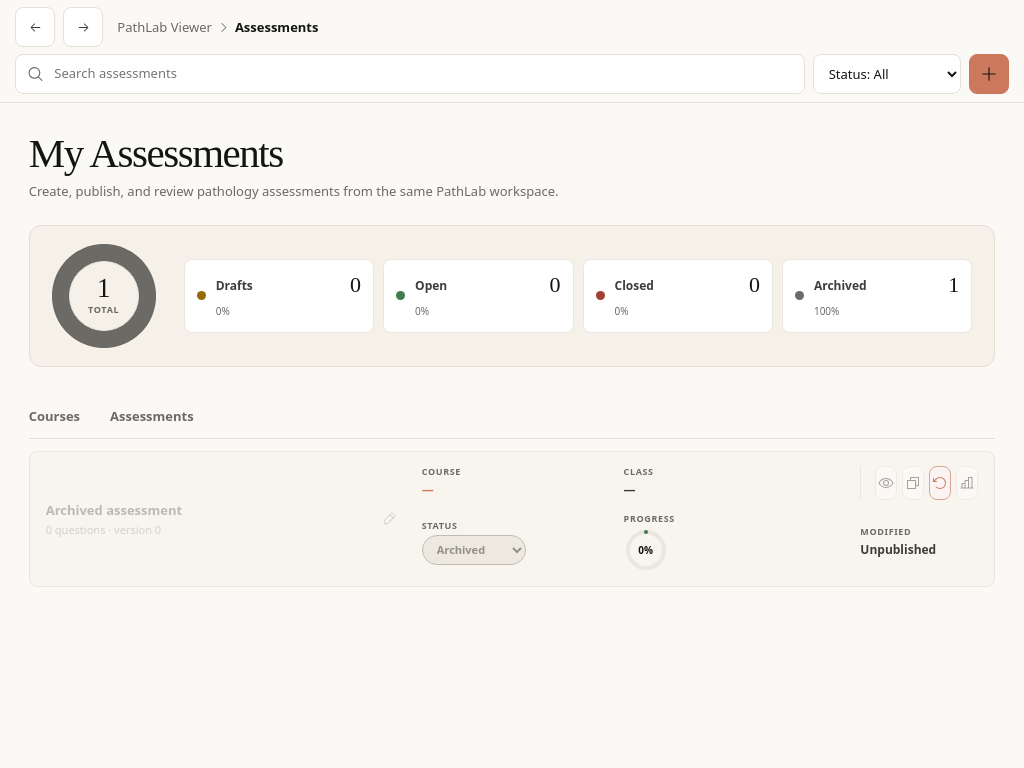
Test: keeps archived assessments read-only until they are restored
Check: the button "Archived assessment 0 questions · version 0" is disabled, box [46,501,367,537]
Check: the button named "Rename Archived assessment" is disabled, box [374,503,406,535]
Click the button named "Restore Archived assessment": (940, 483) [929,466,951,500]
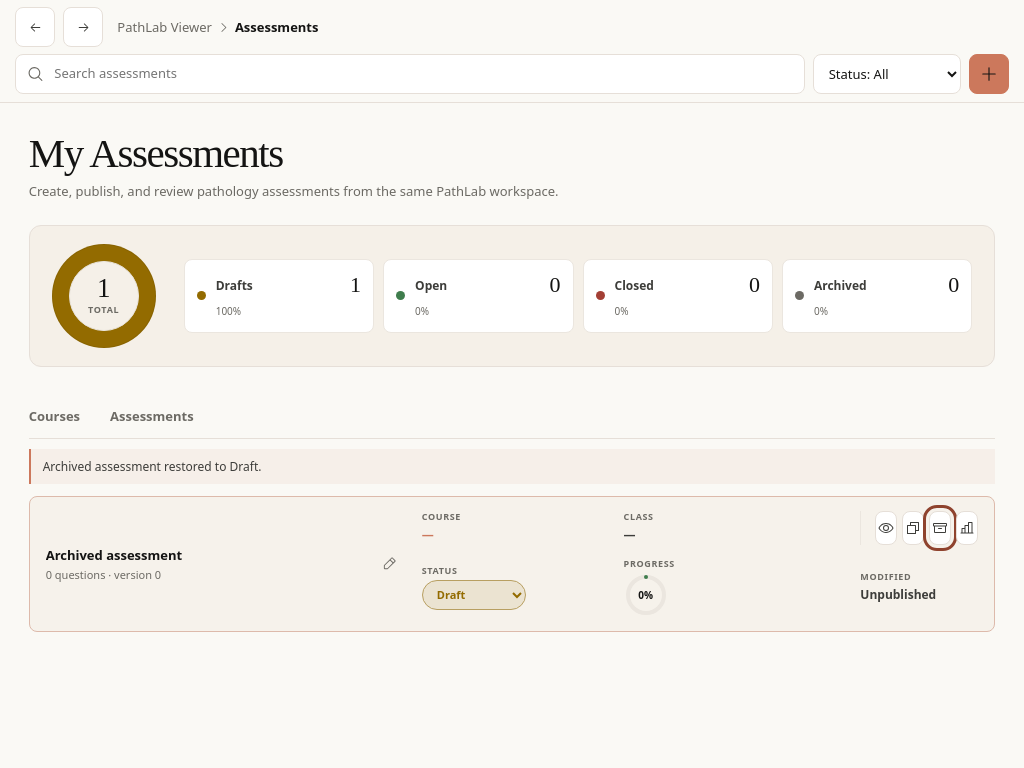
Check: the text "Archived assessment restored to Draft." is shown, box [29,449,995,484]
Check: the button "Archived assessment 0 questions · version 0" is enabled, box [46,546,367,582]
